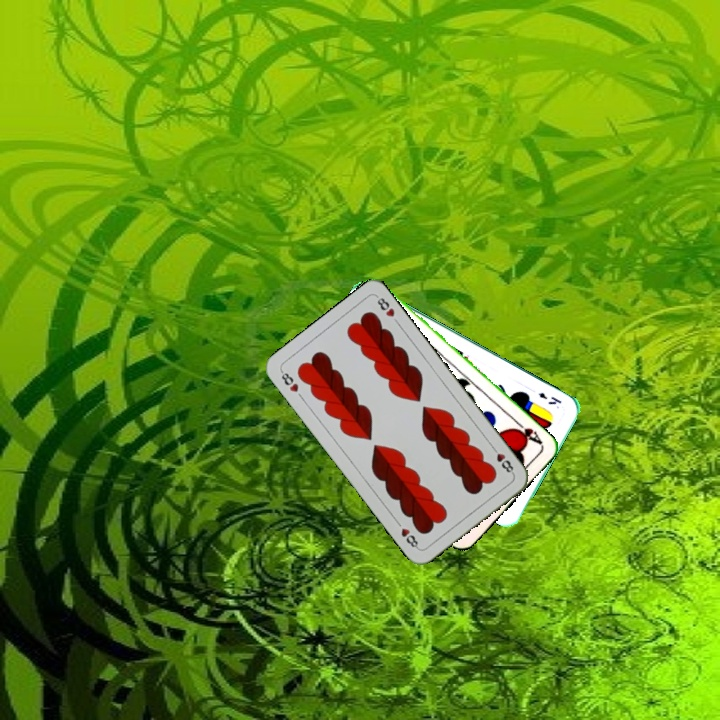EK: (535, 388, 564, 407)
H8: (487, 442, 517, 477), (277, 367, 301, 395)
HA: (509, 417, 545, 448)
